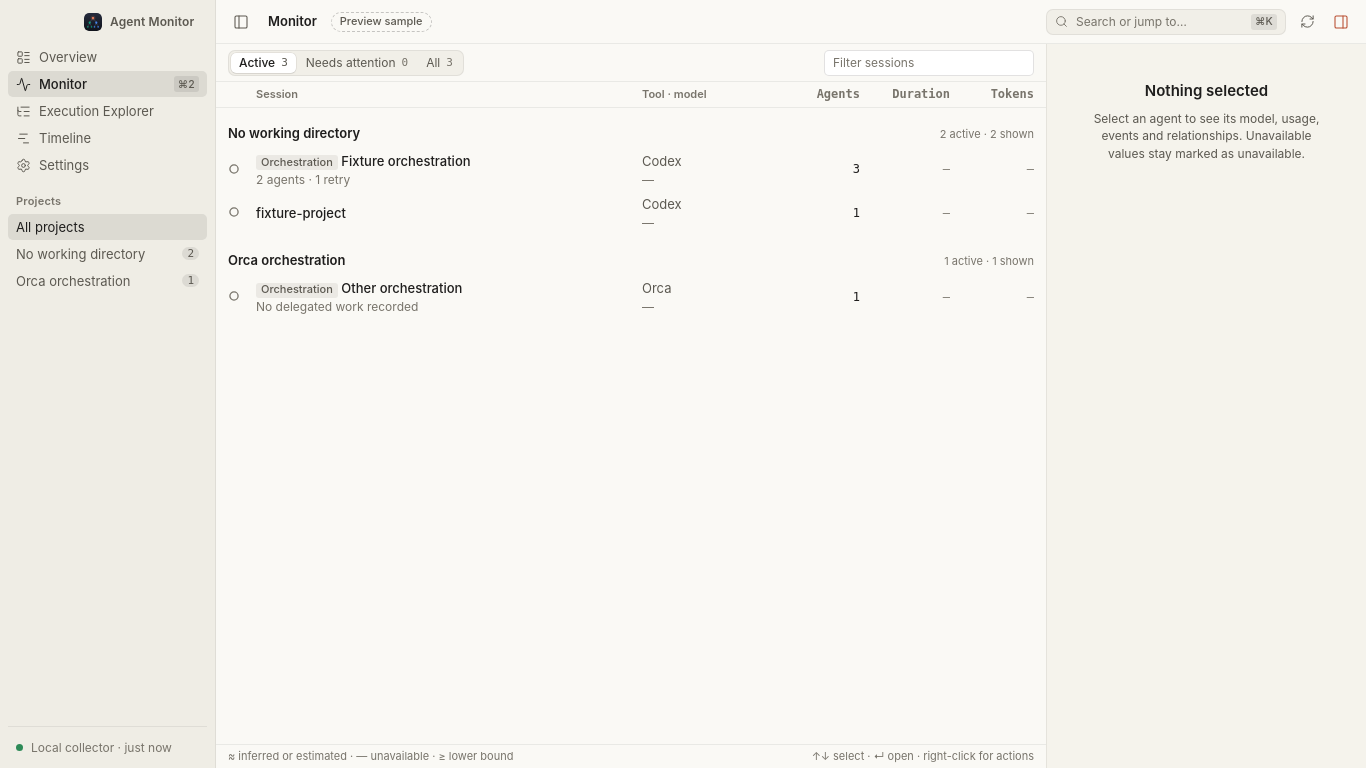
App (orchestration explorer) › lists only orchestration roots and opens each through click or Enter
This screenshot has width=1366, height=768.
Click the button "Overview": (108, 57) [8,44,207,70]
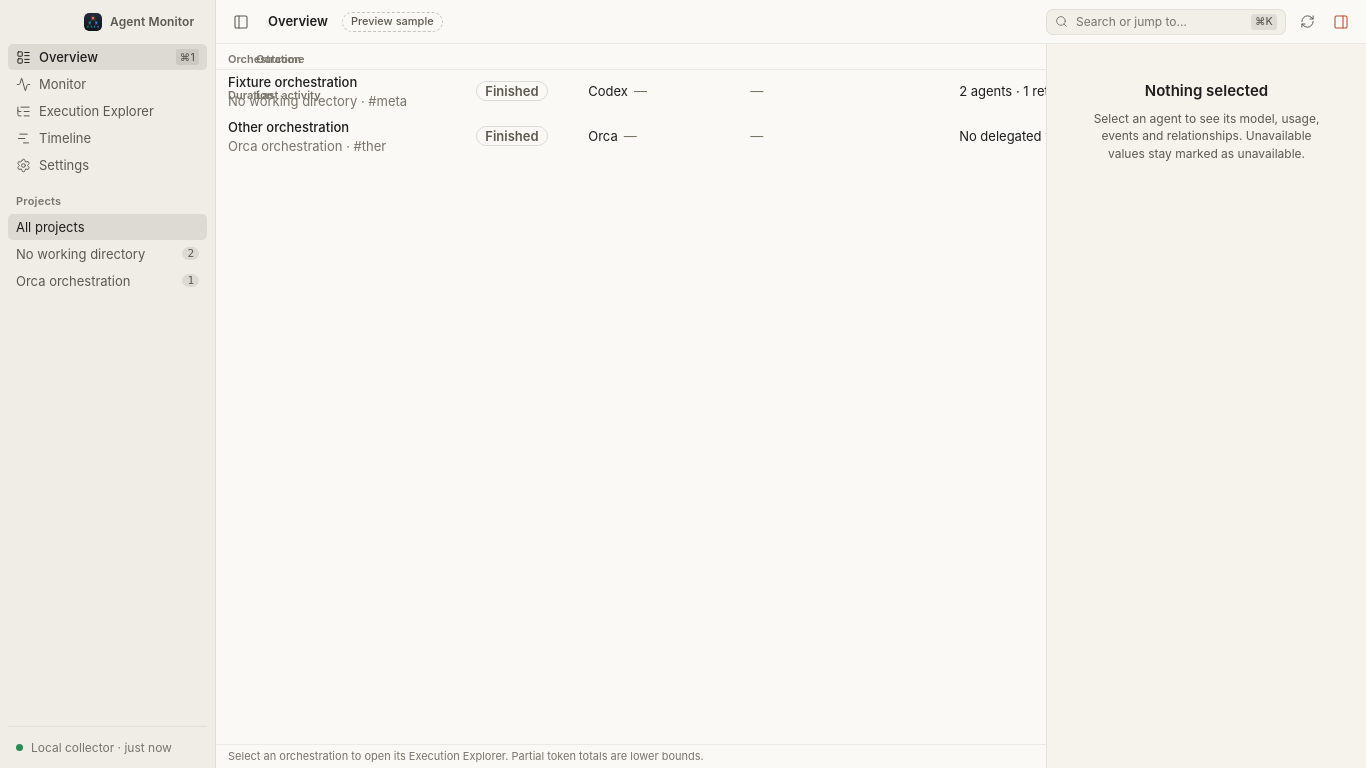
Expected: the number of rows is 3, [216,44,1046,70]; [216,70,1046,115]; [216,115,1046,159]
Expected: the text "Fixture task" is not shown
Click the row named "Open Other orchestration in Execution Explorer": (289, 127) [216,115,1365,159]
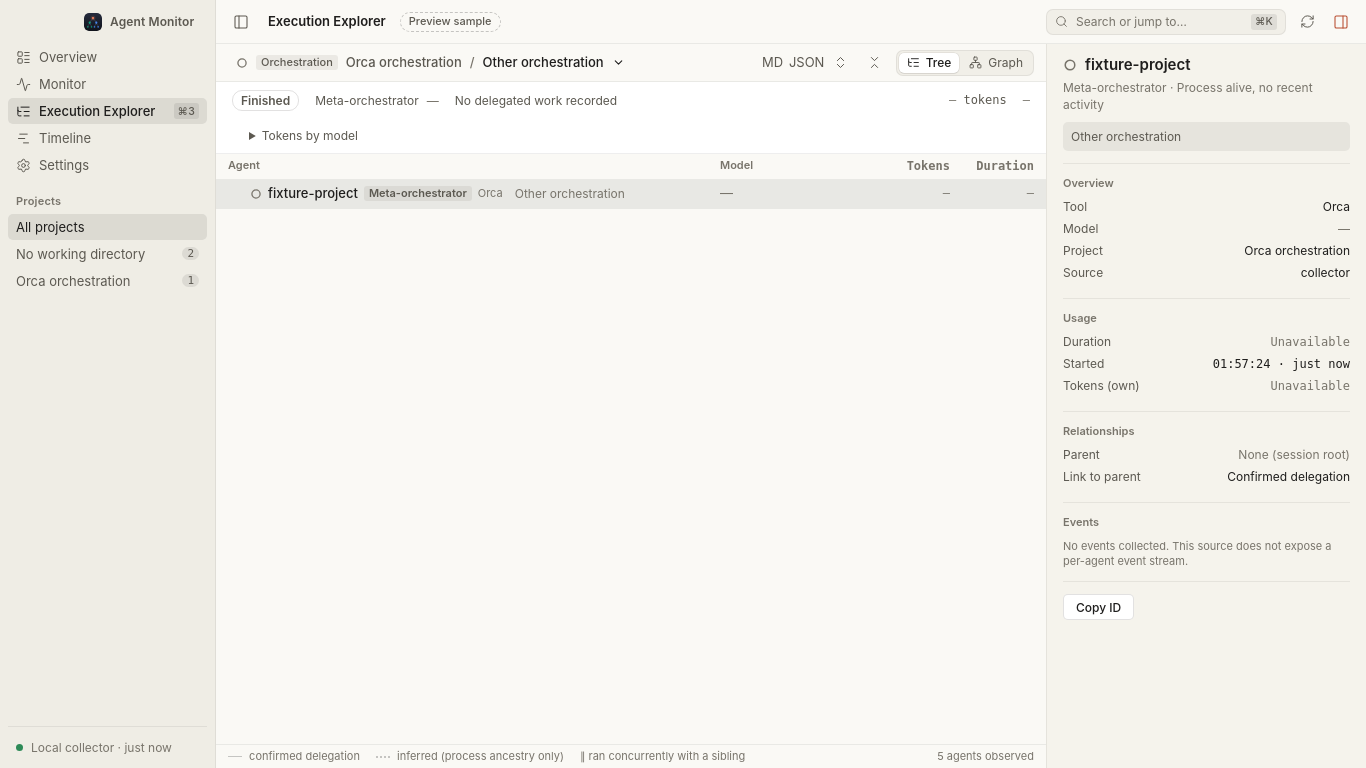
Now the heading "Execution Explorer" is shown, box [268,12,386,31]
Now the button "Orchestration Orca orchestration / Other orchestration" is shown, box [228,50,633,76]
Press 1
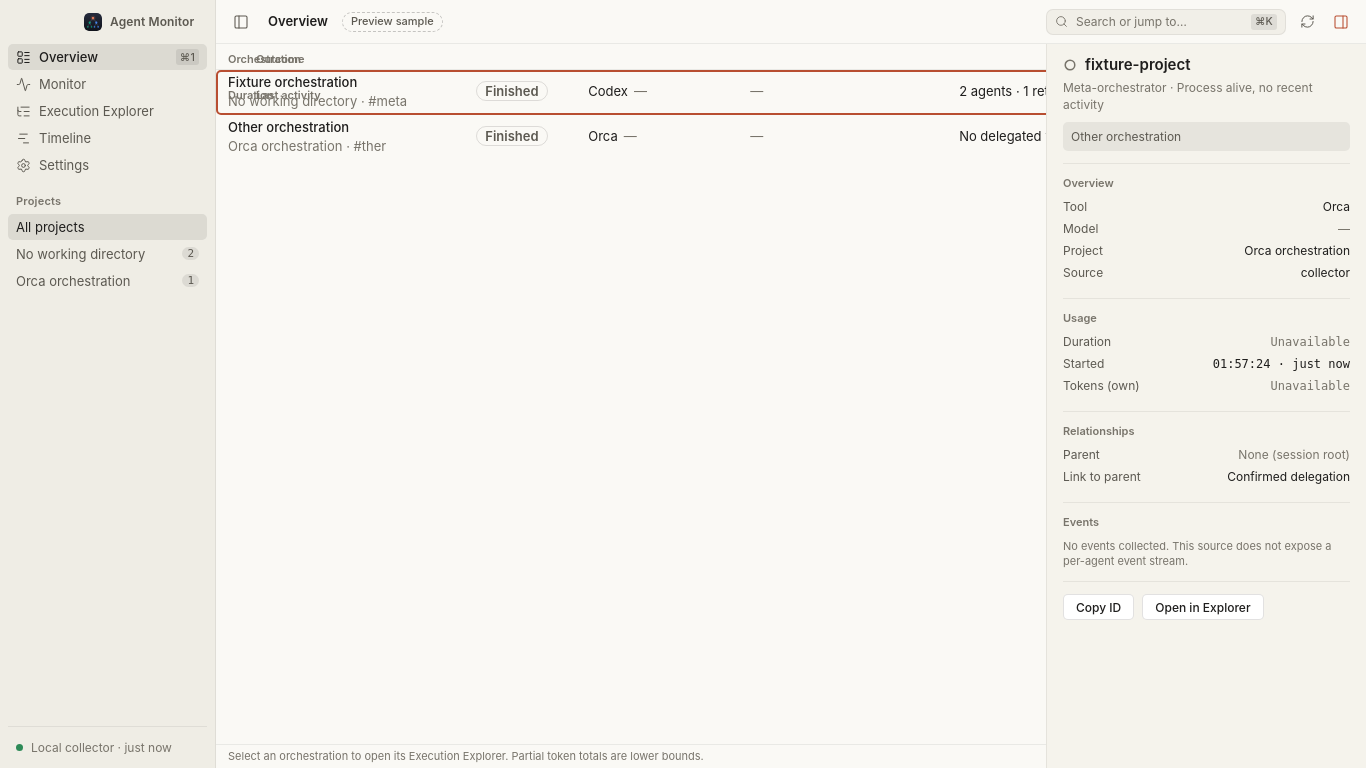
Press Enter in the row named "Open Fixture orchestration in Execution Explorer", box [216,70,1365,115]
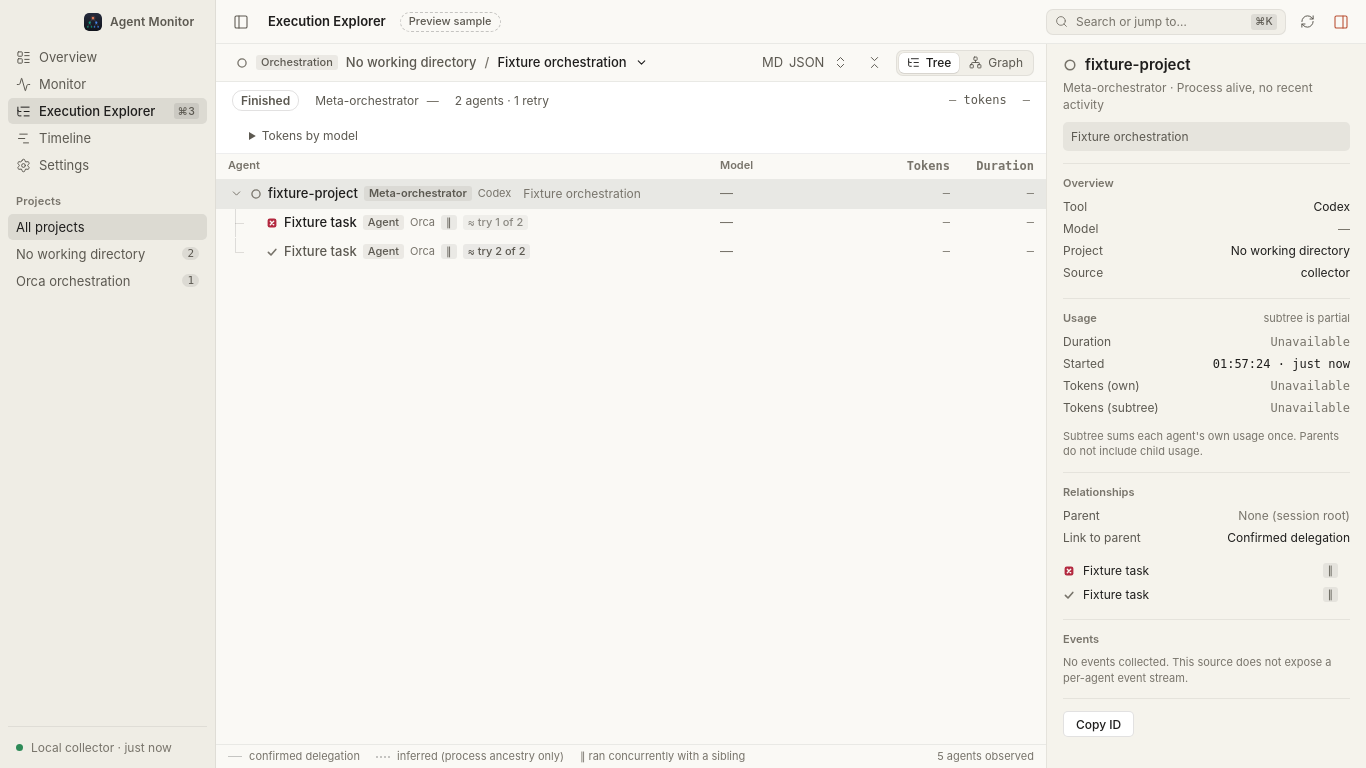
Now the heading "Execution Explorer" is shown, box [268,12,386,31]
Now the button "Orchestration No working directory / Fixture orchestration" is shown, box [228,50,656,76]
